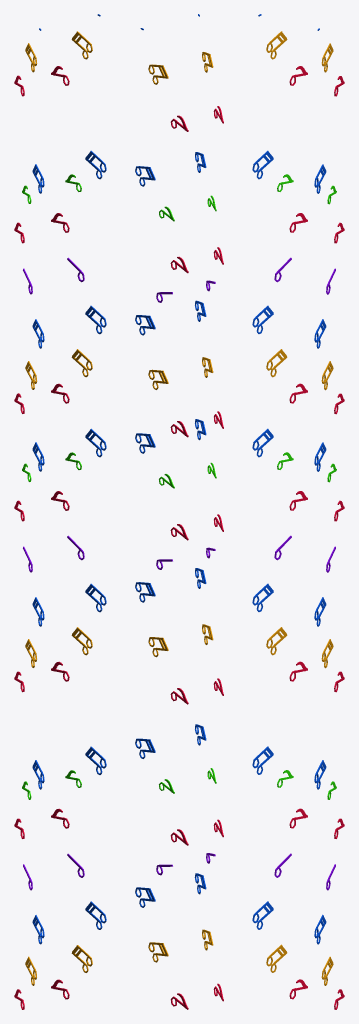
Rendered from notes.dae.
3 renders of one model, left to right at view 1: azimuth 30°, elevation 25°; view 2: azimuth 210°, elevation 25°; view 3: azimuth 330°, elevation 25°, orthographic. The views are drawn at different scales.
Bounding box in the file's own units: 8.33 × 9.65 × 126.
